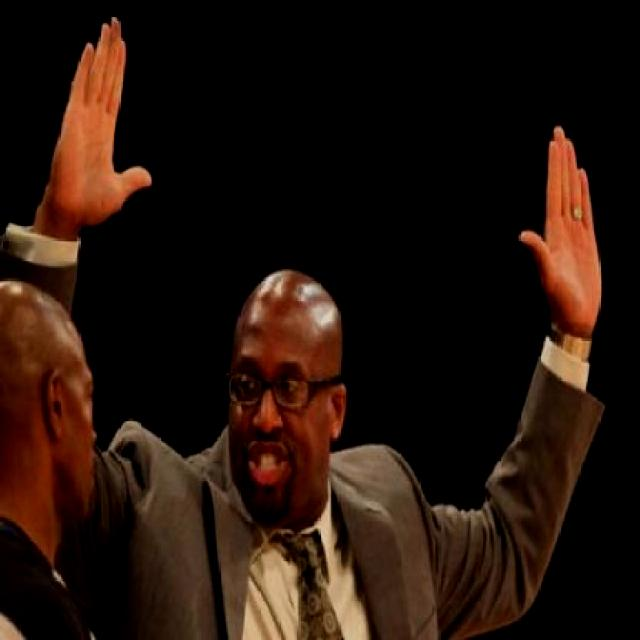face_nomask: (226, 328, 326, 512), (28, 351, 112, 534)
glasses: (219, 368, 321, 414)
hand_noglove: (54, 14, 149, 228), (517, 122, 608, 340)
head_nohelmet: (0, 274, 103, 366), (230, 263, 348, 340)
person: (3, 12, 640, 640), (12, 235, 126, 640)
